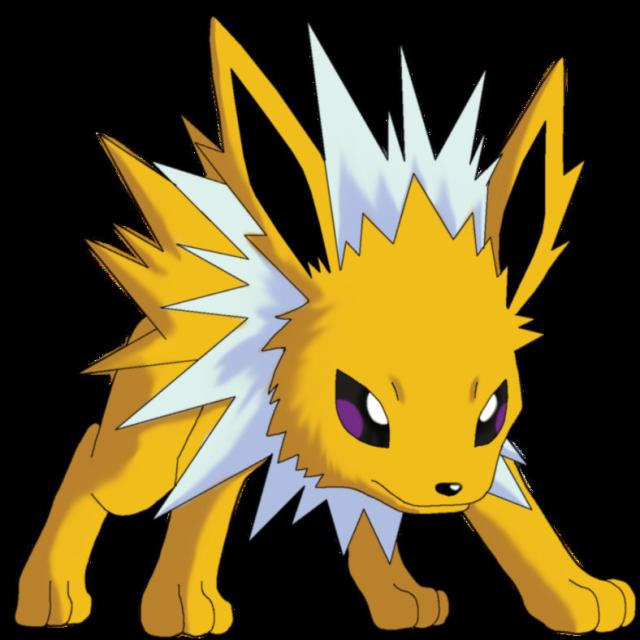Jolteon: (86, 103, 568, 621)
